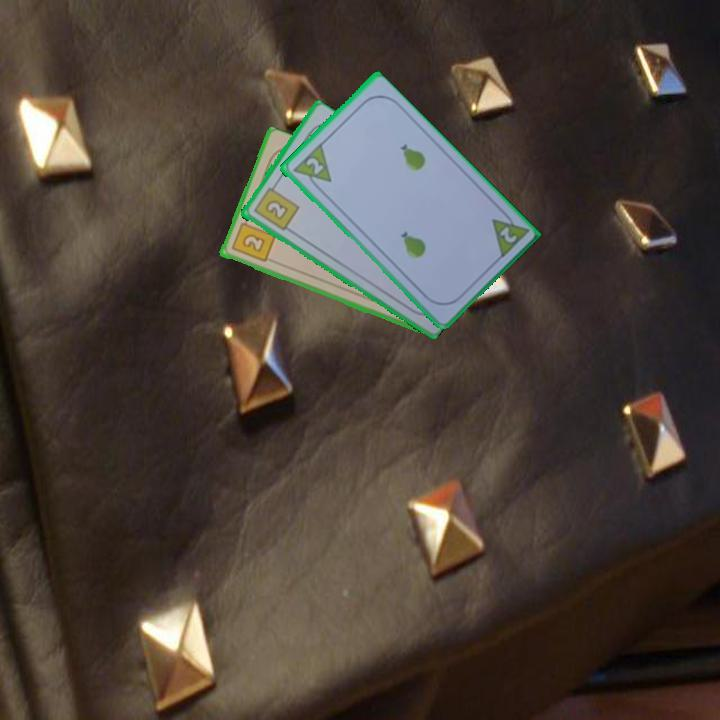2b: (250, 180, 301, 233), (228, 214, 278, 265)
2p: (487, 205, 531, 262), (288, 140, 334, 194)
